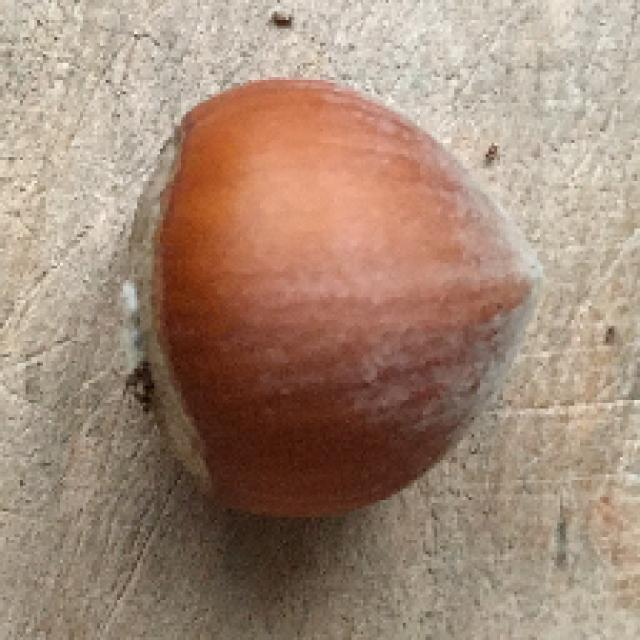qualityHazelnut: (110, 71, 545, 522)
